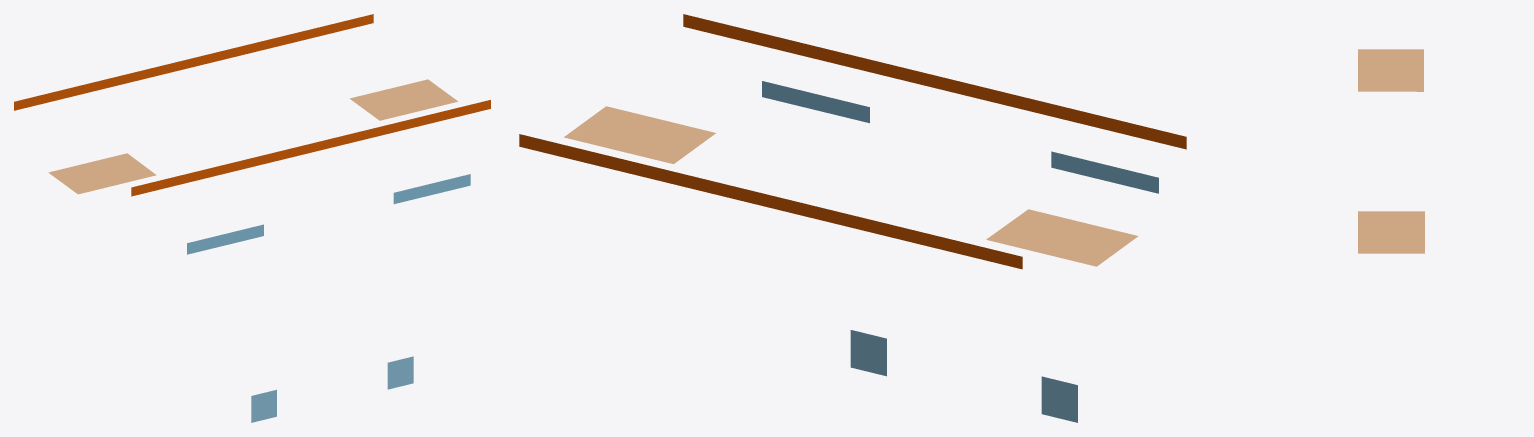
The model's file is HallwayIntersectionEmissives.fbx.
3 views of the same model, side by side, from view 1: azimuth 30°, elevation 25°; view 2: azimuth 150°, elevation 25°; view 3: azimuth 270°, elevation 25° (orthographic). The views are drawn at different scales.
Visible parts, largest first — view 1: HallwayIntersection001Emissives; view 2: HallwayIntersection001Emissives; view 3: HallwayIntersection001Emissives.
Boxes of the visible parts, x1=… form: HallwayIntersection001Emissives: x1=14, y1=14, x2=490, y2=422; HallwayIntersection001Emissives: x1=519, y1=14, x2=1186, y2=422; HallwayIntersection001Emissives: x1=1358, y1=49, x2=1424, y2=253.
Bounding box in the file's own units: 737 × 452 × 464.
